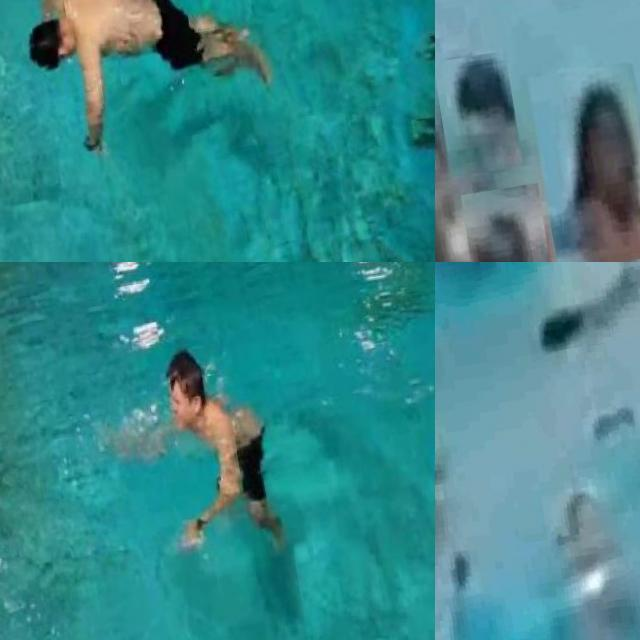drowning: (18, 0, 280, 162), (508, 262, 640, 371), (435, 50, 524, 178)
swimming: (108, 334, 297, 604), (528, 63, 640, 262), (460, 182, 553, 262), (435, 102, 464, 262)
